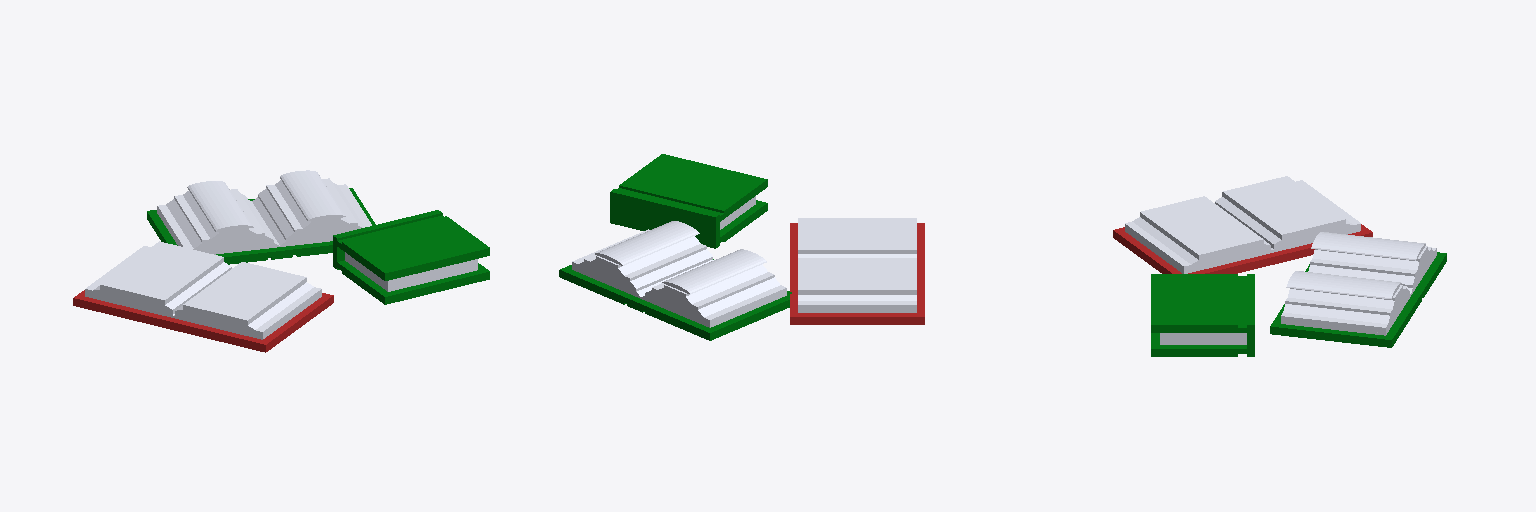
File: BookPile1.obj
3 views of the same model, side by side, from view 1: azimuth 30°, elevation 25°; view 2: azimuth 150°, elevation 25°; view 3: azimuth 270°, elevation 25° (orthographic).
Visible parts, largest first — view 1: block, wedge, cylinder_half; view 2: block, wedge, cylinder_half; view 3: block, wedge, cylinder_half.
Boxes of the visible parts, x1,y1,x2,y2 form: block: [73, 178, 489, 352]; wedge: [93, 180, 364, 329]; cylinder_half: [187, 170, 345, 231]; block: [559, 154, 924, 340]; wedge: [578, 236, 916, 316]; cylinder_half: [595, 221, 766, 294]; block: [1113, 176, 1446, 356]; wedge: [1132, 197, 1433, 323]; cylinder_half: [1286, 232, 1425, 299].
Bounding box in the file's own units: 2.05 × 0.2041 × 1.75.